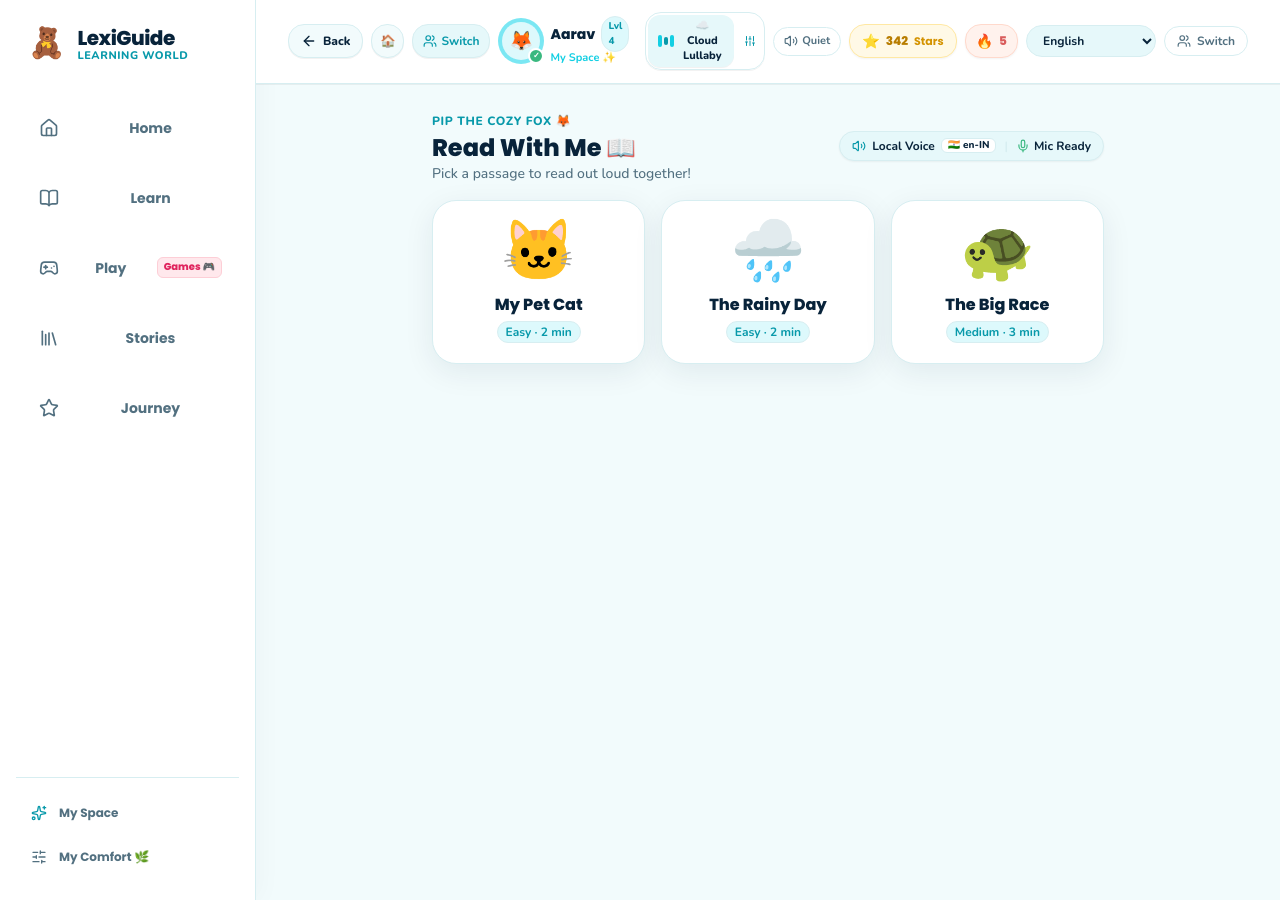
Test: Step 8: Real AI Speech, Reading & Learning Analysis Test Suite › 26. Microphone permission denial renders friendly permission instruction
This screenshot has width=1280, height=900.
Click the text "My Pet Cat": (539, 304) x1=495 y1=292 x2=583 y2=316
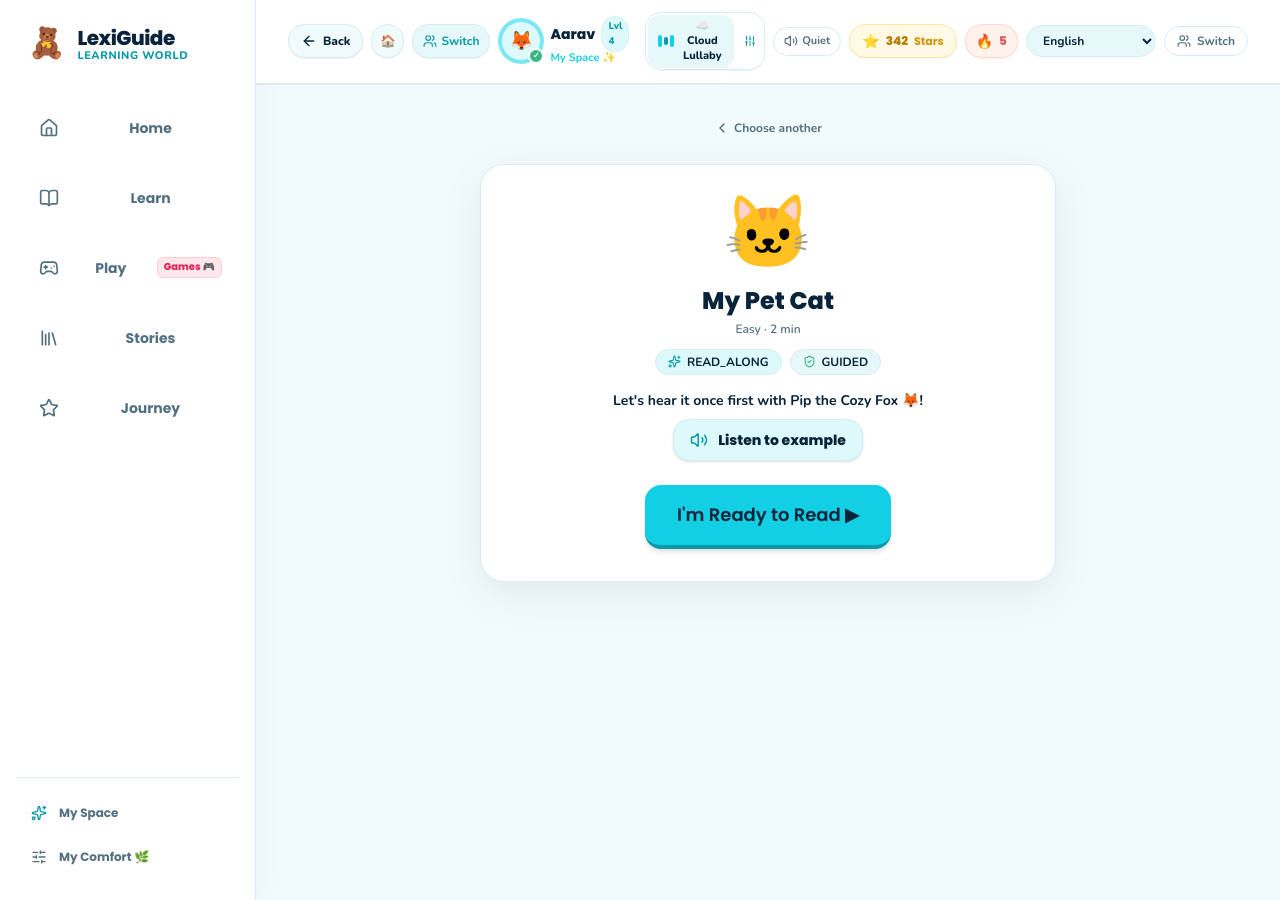
Click the button "I'm Ready to Read ▶": (768, 516) x1=645 y1=484 x2=891 y2=548
(page scrolled)
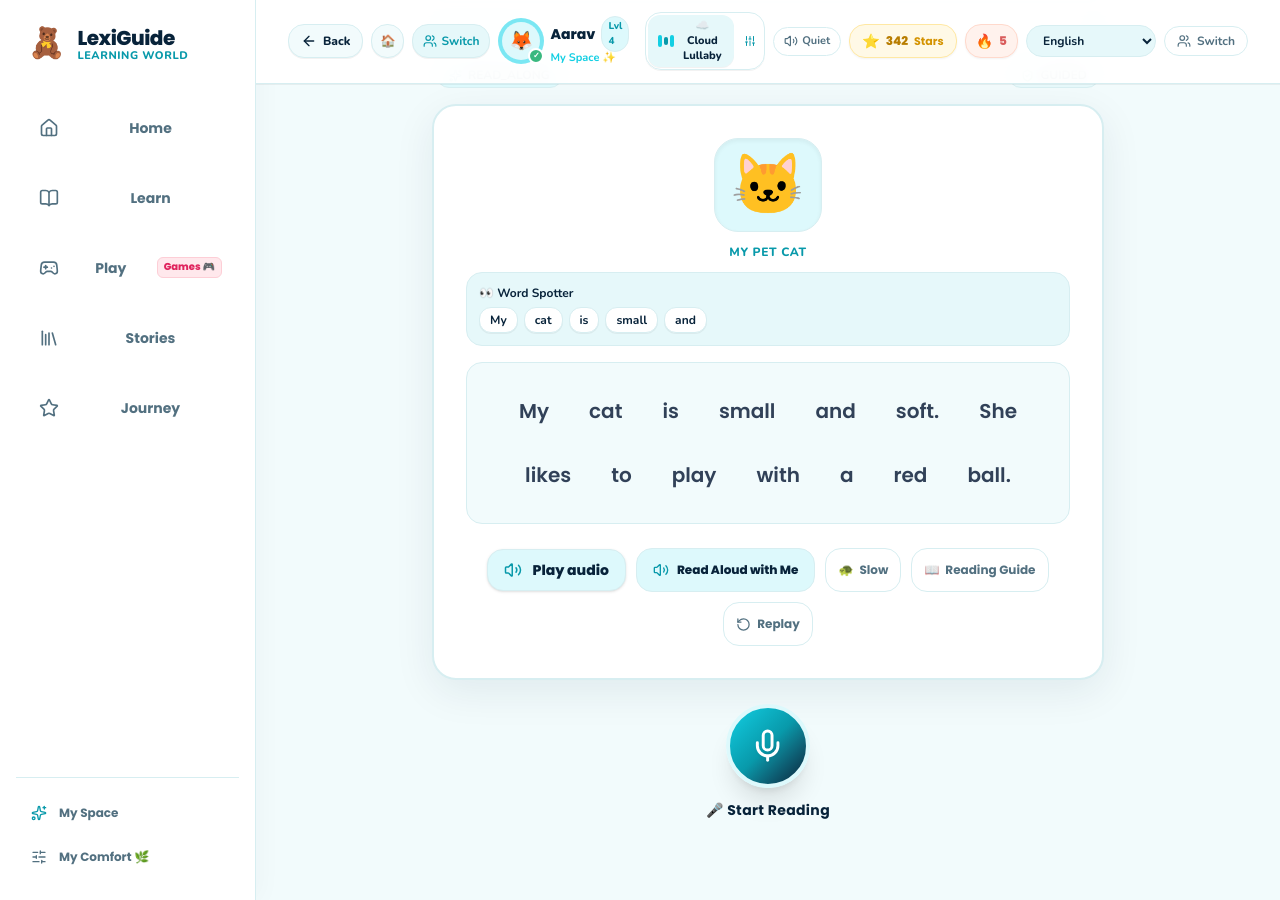
Click the button named "start recording": (768, 746) x1=726 y1=704 x2=810 y2=788
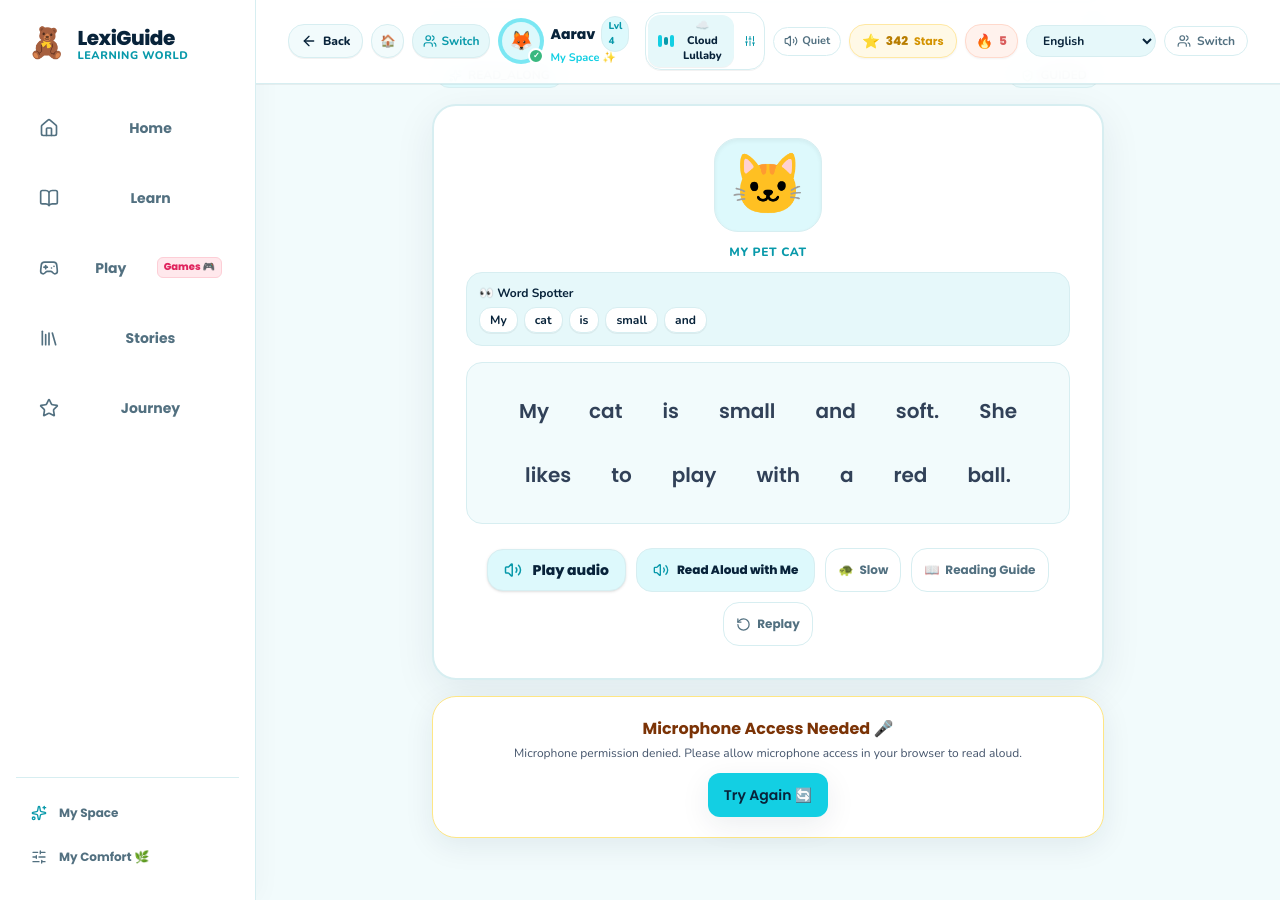
Expected: the text "Microphone Access Needed 🎤" is shown, x1=642 y1=717 x2=894 y2=740
Expected: the text "Microphone permission denied" is shown, x1=514 y1=745 x2=1022 y2=761
